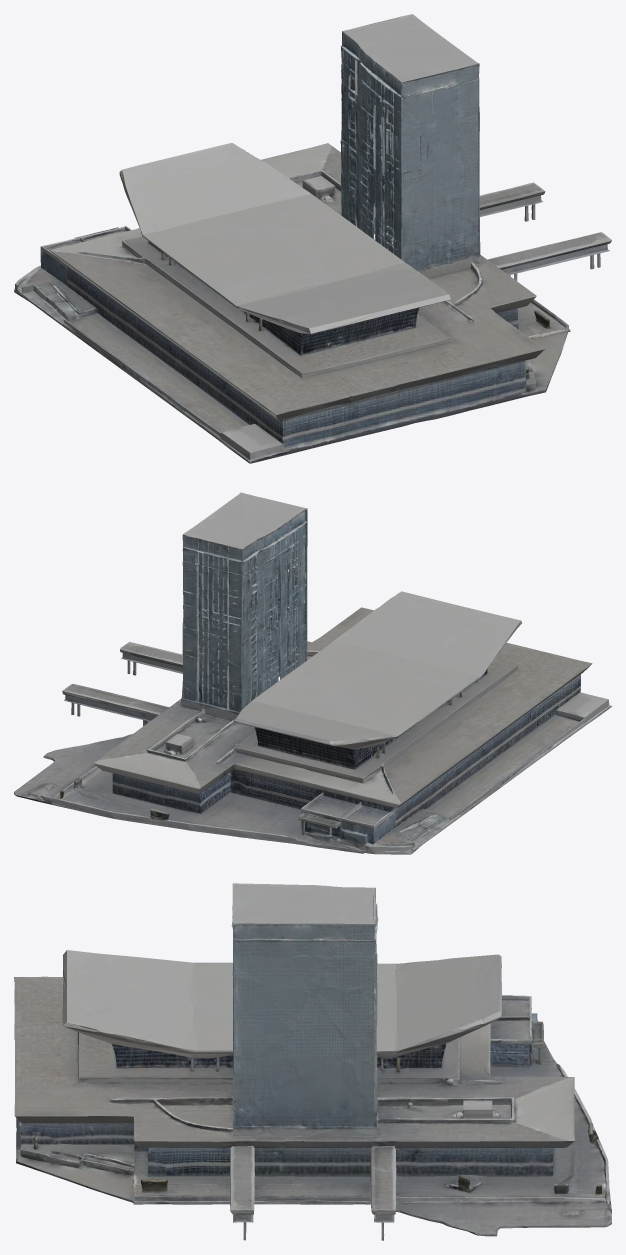
The model's file is terminal-mobile.glb.
3 renders of one model, top to bottom at view 1: azimuth 30°, elevation 25°; view 2: azimuth 150°, elevation 25°; view 3: azimuth 270°, elevation 25°, orthographic. The views are drawn at different scales.
Parts seen in each view (by area): view 1: tripo_node_53a5d50e-fbb4-4799-936a-efaef6d6c3f4; view 2: tripo_node_53a5d50e-fbb4-4799-936a-efaef6d6c3f4; view 3: tripo_node_53a5d50e-fbb4-4799-936a-efaef6d6c3f4.
Part boxes in pixels (x1=…): tripo_node_53a5d50e-fbb4-4799-936a-efaef6d6c3f4: x1=14, y1=14, x2=611, y2=463; tripo_node_53a5d50e-fbb4-4799-936a-efaef6d6c3f4: x1=14, y1=492, x2=611, y2=854; tripo_node_53a5d50e-fbb4-4799-936a-efaef6d6c3f4: x1=14, y1=883, x2=611, y2=1240.
Size of the model in its own units: 230 by 117 by 244.
Materials: 1 (1 with a texture image).
